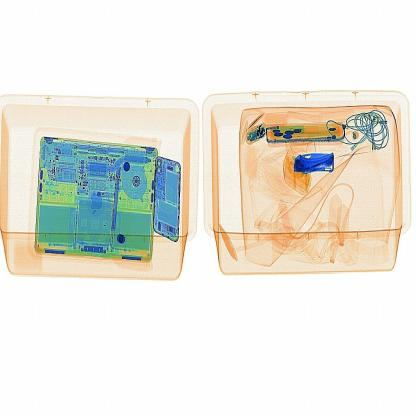knife: (286, 149, 339, 177)
